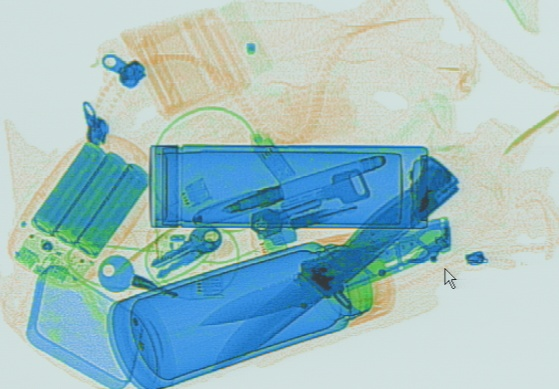knife: (212, 153, 459, 373), (198, 215, 451, 328)
powerbank: (7, 133, 153, 288)
